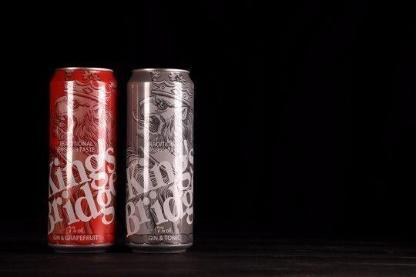Can: (47, 64, 120, 252), (122, 66, 195, 254)
